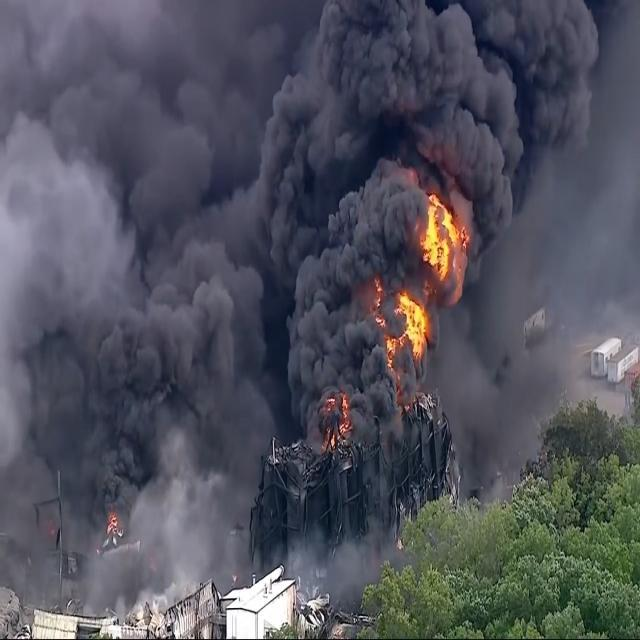Fire: (417, 174, 474, 292), (376, 274, 426, 398), (322, 389, 348, 446), (106, 518, 124, 550)
Smoke: (0, 0, 275, 597), (263, 0, 600, 457)
